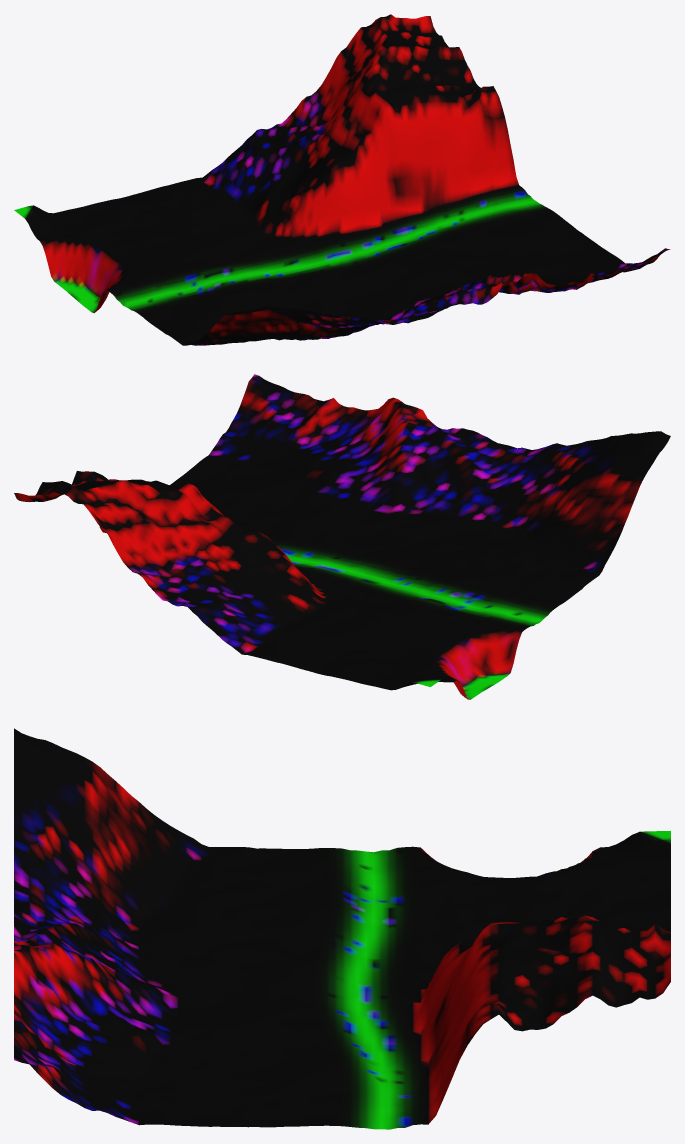
Rendered from SM_AsirMountains_Terrain_0_3.fbx.
3 views of the same model, one above another, from view 1: azimuth 30°, elevation 25°; view 2: azimuth 150°, elevation 25°; view 3: azimuth 270°, elevation 25° (orthographic). The views are drawn at different scales.
Parts seen in each view (by area): view 1: SM_AsirMountains_Terrain_0_3; view 2: SM_AsirMountains_Terrain_0_3; view 3: SM_AsirMountains_Terrain_0_3.
Part boxes in pixels (x1=…): SM_AsirMountains_Terrain_0_3: x1=14, y1=14, x2=670, y2=345; SM_AsirMountains_Terrain_0_3: x1=14, y1=374, x2=670, y2=699; SM_AsirMountains_Terrain_0_3: x1=14, y1=728, x2=670, y2=1129.
Bounding box in the file's own units: 50400 × 17794 × 50400.
